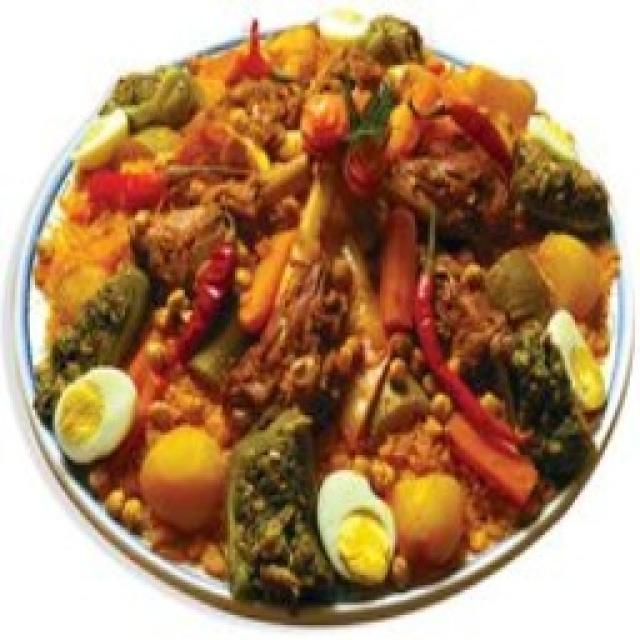Couscous: (34, 16, 619, 606)
